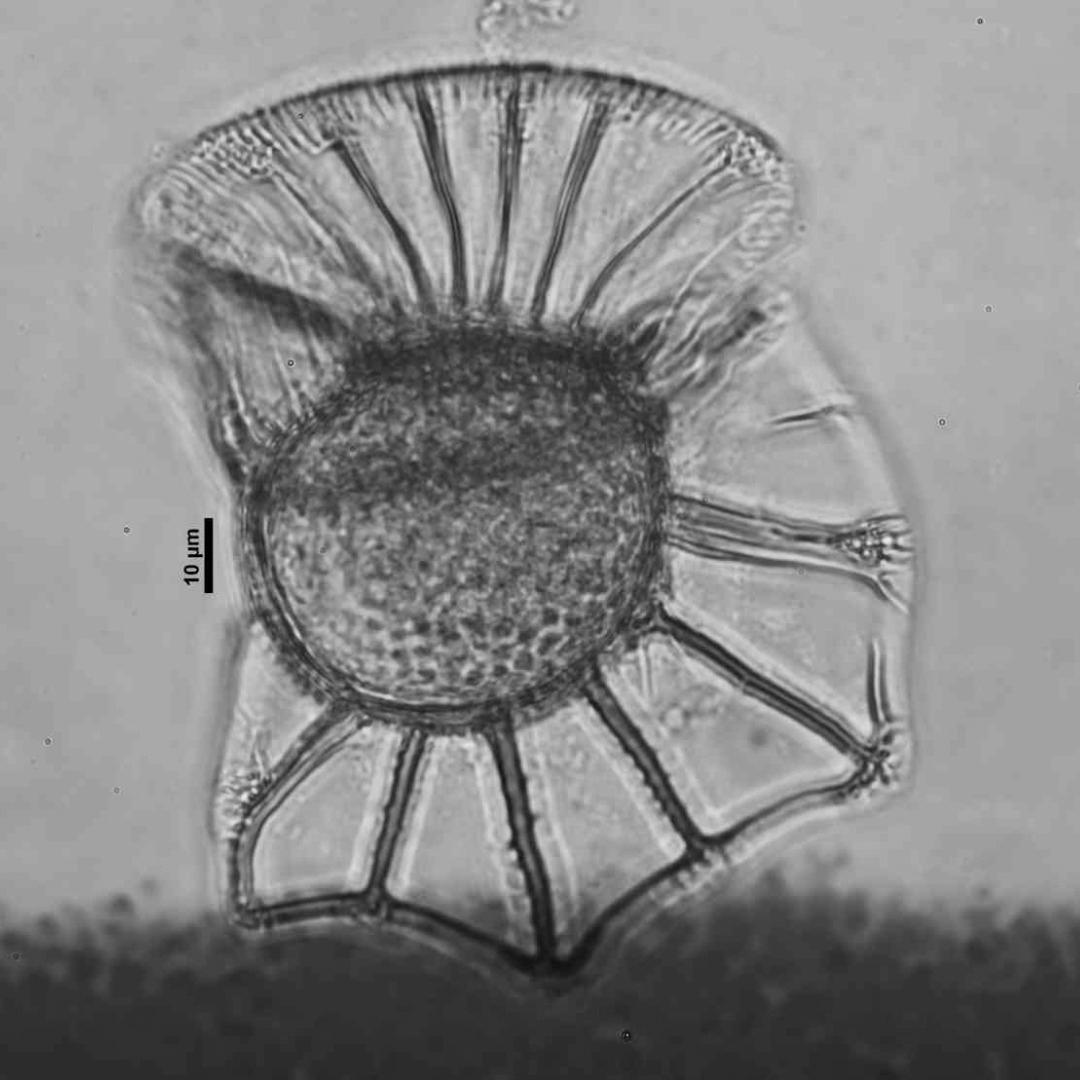ornithocercus_thumii: (123, 63, 918, 996)
